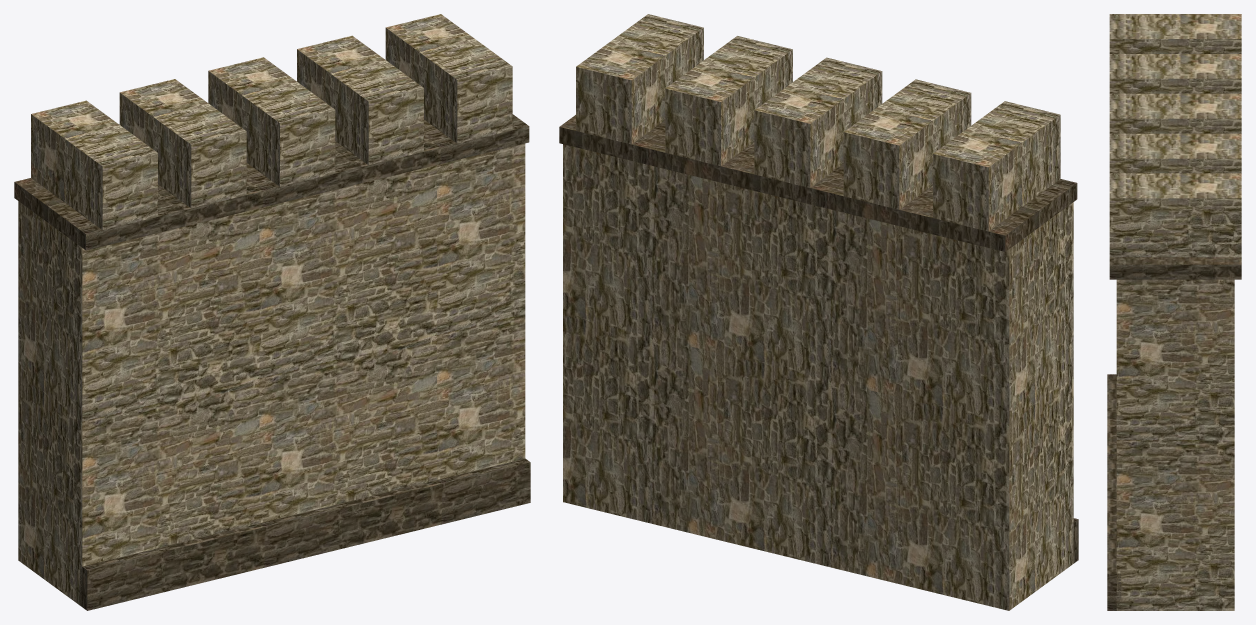
Rendered from city_wall_segment_01.glb.
3 renders of one model, left to right at view 1: azimuth 30°, elevation 25°; view 2: azimuth 150°, elevation 25°; view 3: azimuth 270°, elevation 25°, orthographic. The views are drawn at different scales.
Visible parts, largest first — view 1: city_wall_segment_01; view 2: city_wall_segment_01; view 3: city_wall_segment_01.
Part boxes in pixels (bbox=[...]): city_wall_segment_01: bbox=[14, 14, 530, 610]; city_wall_segment_01: bbox=[559, 14, 1078, 610]; city_wall_segment_01: bbox=[1107, 14, 1241, 610].
Size of the model in its own units: 4 by 3.79 by 1.14.
Materials: 2 (2 with a texture image).
